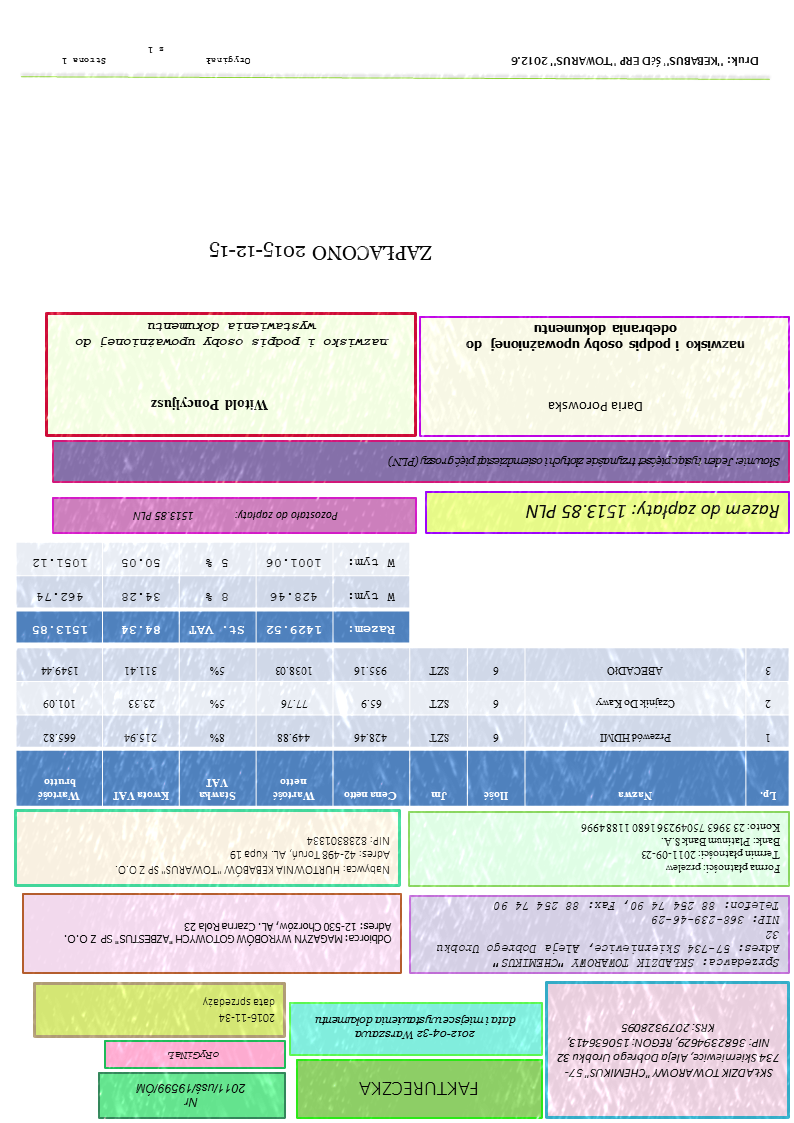Table: (15, 646, 791, 808), (14, 542, 413, 644)
TextBox: (433, 899, 783, 973), (555, 1019, 782, 1083), (578, 821, 785, 879), (114, 835, 393, 878), (75, 319, 393, 351), (62, 919, 394, 947), (463, 321, 750, 353), (387, 451, 784, 474), (524, 502, 784, 526), (311, 1013, 519, 1042), (207, 238, 437, 264), (506, 52, 763, 73), (57, 44, 253, 67), (134, 1080, 250, 1112), (131, 509, 343, 525), (355, 1077, 483, 1100), (146, 395, 272, 415), (201, 995, 278, 1026), (544, 398, 647, 419), (164, 1049, 223, 1064)
